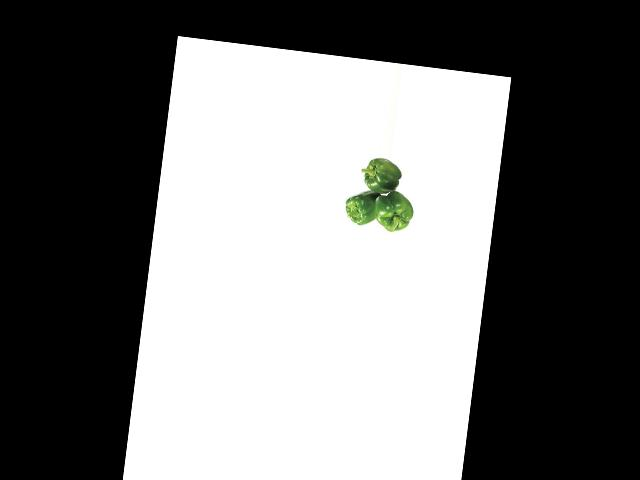bell_pepper: (370, 189, 419, 237)
